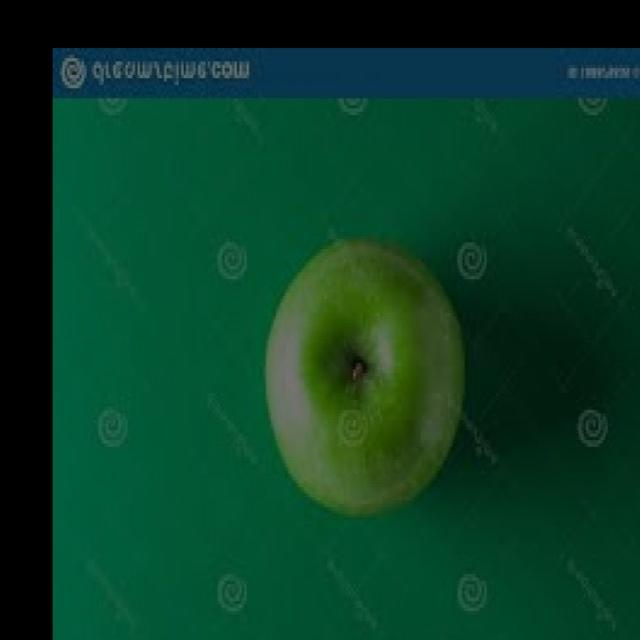green apple: (256, 244, 469, 517)
